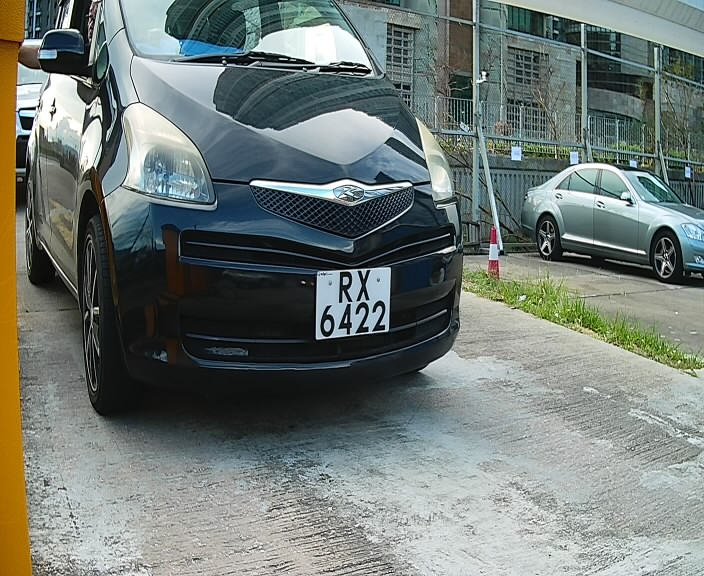License Plate: (310, 260, 400, 350)
